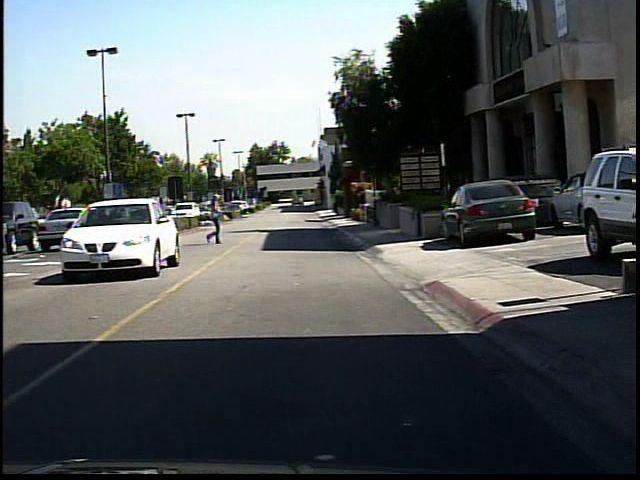person: (200, 189, 228, 248)
